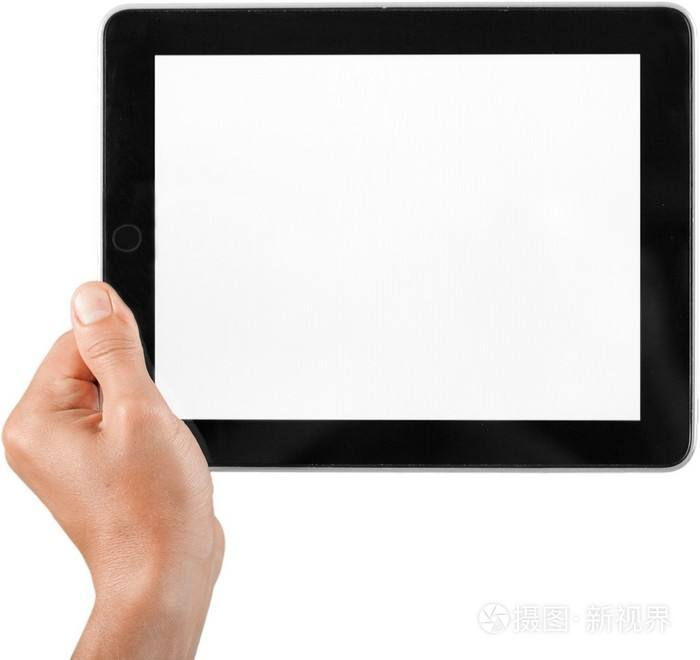pad: (2, 3, 700, 613)
